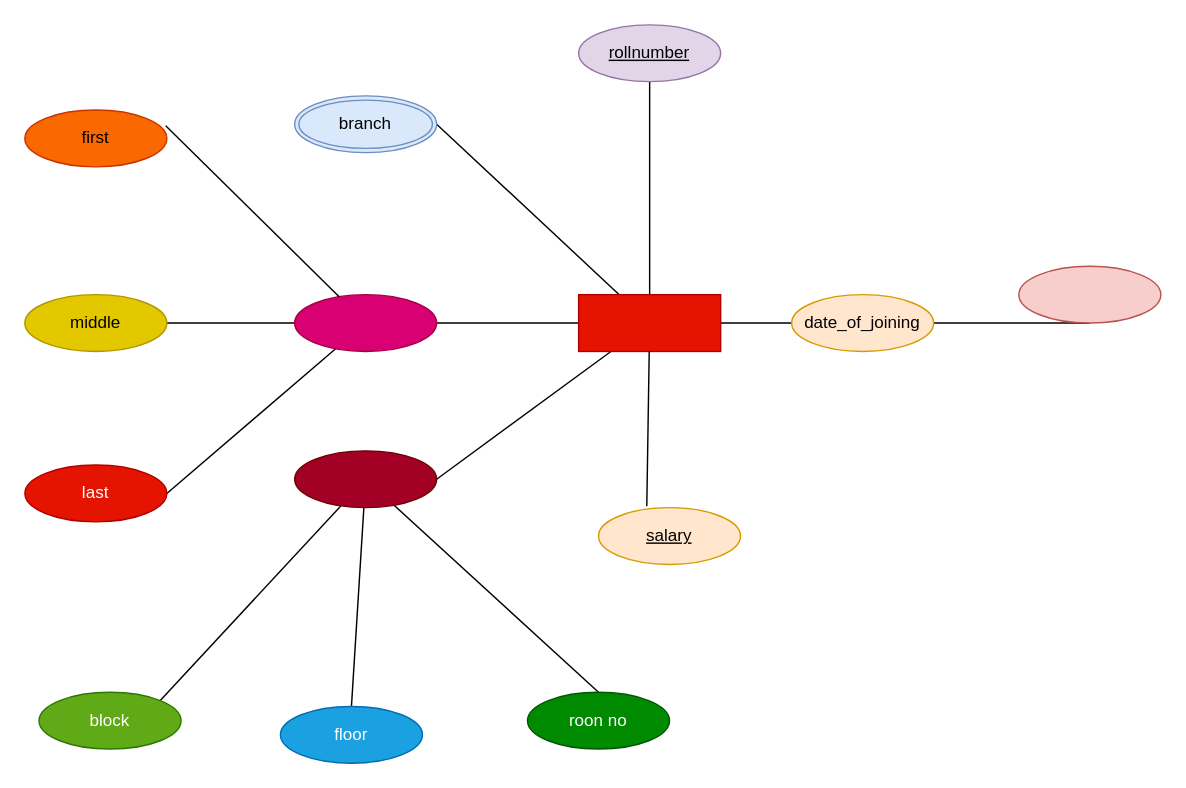
This 1186x788 diagram has some shape labels left out. The shapes that lost their labels are listed below. From the top down, each one's centre as x and y in pixels, then its label:
At pixel 1089 294: "years_of_exp".
At pixel 365 322: "name".
At pixel 649 322: "HOD".
At pixel 365 478: "office_loc".
